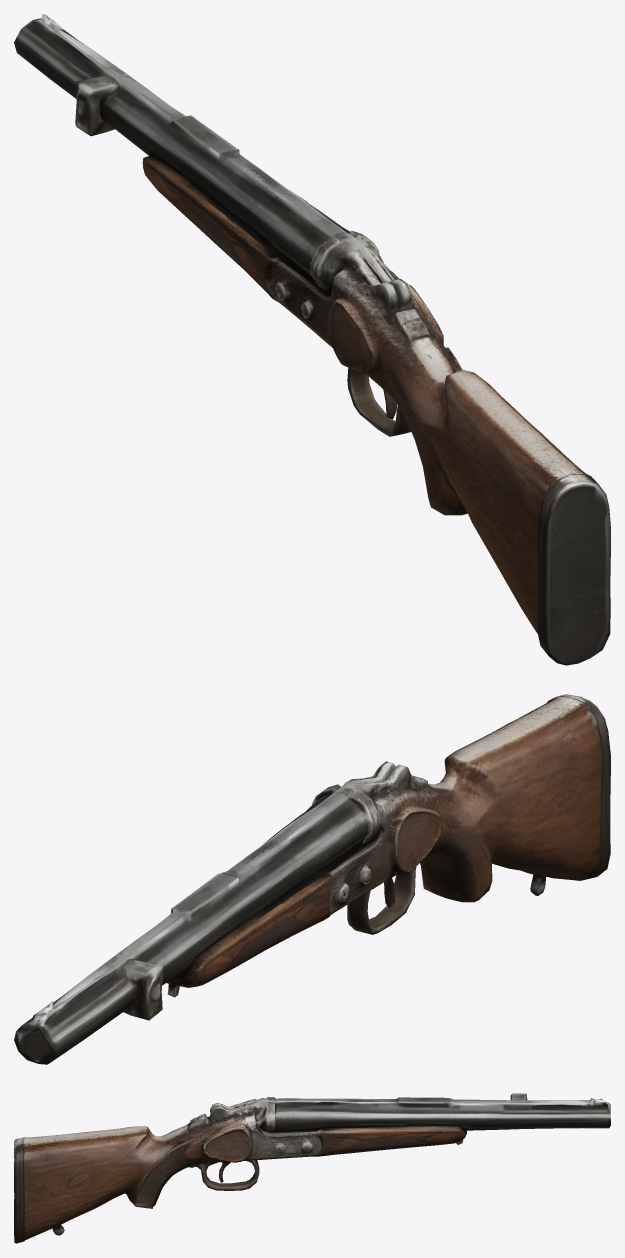
The model's file is w_dbarrel.glb.
3 views of the same model, one above another, from view 1: azimuth 30°, elevation 25°; view 2: azimuth 150°, elevation 25°; view 3: azimuth 270°, elevation 25° (orthographic). The views are drawn at different scales.
Parts seen in each view (by area): view 1: tripo_node_3ff2bb75-2dd3-4e7b-8d1c-74f80c2f839e; view 2: tripo_node_3ff2bb75-2dd3-4e7b-8d1c-74f80c2f839e; view 3: tripo_node_3ff2bb75-2dd3-4e7b-8d1c-74f80c2f839e.
Part boxes in pixels (box(x1,y1,x2,y2)): tripo_node_3ff2bb75-2dd3-4e7b-8d1c-74f80c2f839e: box(14, 14, 610, 665); tripo_node_3ff2bb75-2dd3-4e7b-8d1c-74f80c2f839e: box(14, 694, 610, 1064); tripo_node_3ff2bb75-2dd3-4e7b-8d1c-74f80c2f839e: box(14, 1093, 610, 1243).
Bounding box in the file's own units: 0.0838 × 0.2643 × 1.
Materials: 1 (1 with a texture image).
